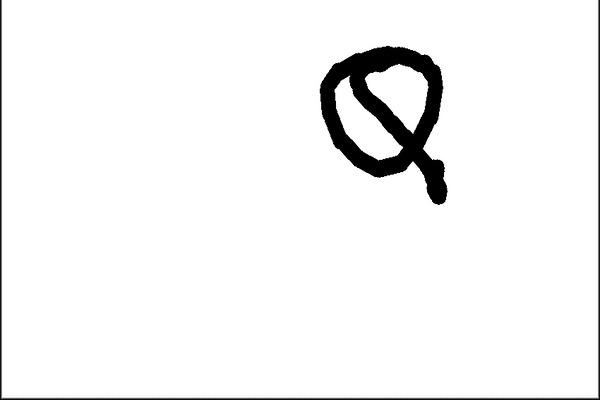Q: (308, 35, 460, 213)
